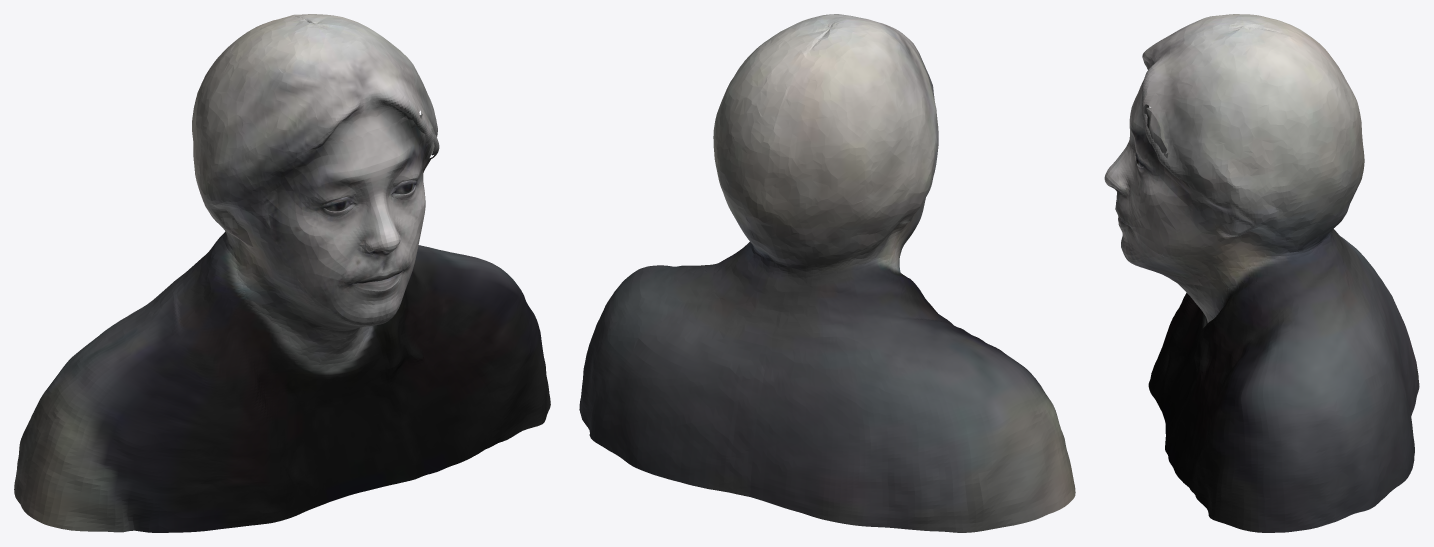
File: ryuichi.glb
3 renders of one model, left to right at view 1: azimuth 30°, elevation 25°; view 2: azimuth 150°, elevation 25°; view 3: azimuth 270°, elevation 25°, orthographic. The views are drawn at different scales.
Parts seen in each view (by area): view 1: Node; view 2: Node; view 3: Node.
Part boxes in pixels (box(x1,y1,x2,y2)): Node: box(14, 14, 550, 532); Node: box(579, 14, 1075, 532); Node: box(1104, 14, 1419, 532).
Bounding box in the file's own units: 0.4704 × 0.3853 × 0.2747.
1 material, 1 textured.
